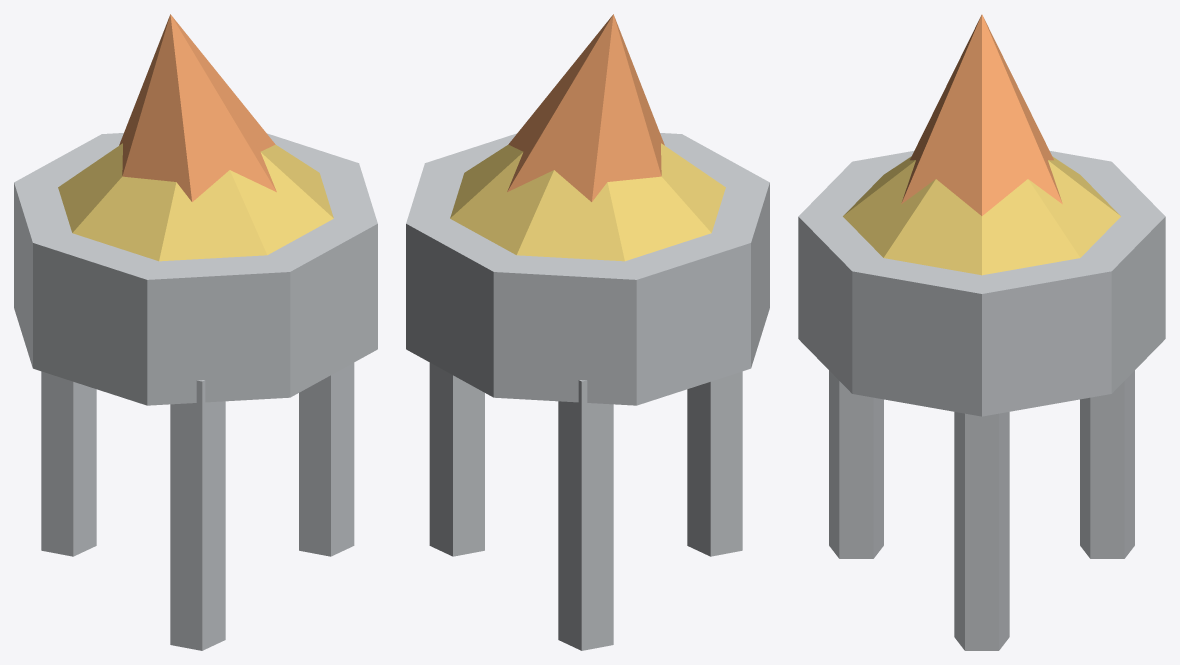
Rendered from animprop_brazier_04.glb.
3 views of the same model, side by side, from view 1: azimuth 30°, elevation 25°; view 2: azimuth 150°, elevation 25°; view 3: azimuth 270°, elevation 25° (orthographic). The views are drawn at different scales.
Visible parts, largest first — view 1: animprop; view 2: animprop; view 3: animprop.
Boxes of the visible parts, bbox=[...] form: animprop: bbox=[14, 14, 377, 650]; animprop: bbox=[406, 14, 769, 650]; animprop: bbox=[798, 14, 1165, 650].
Size of the model in its own units: 0.76 by 1.26 by 0.76.
